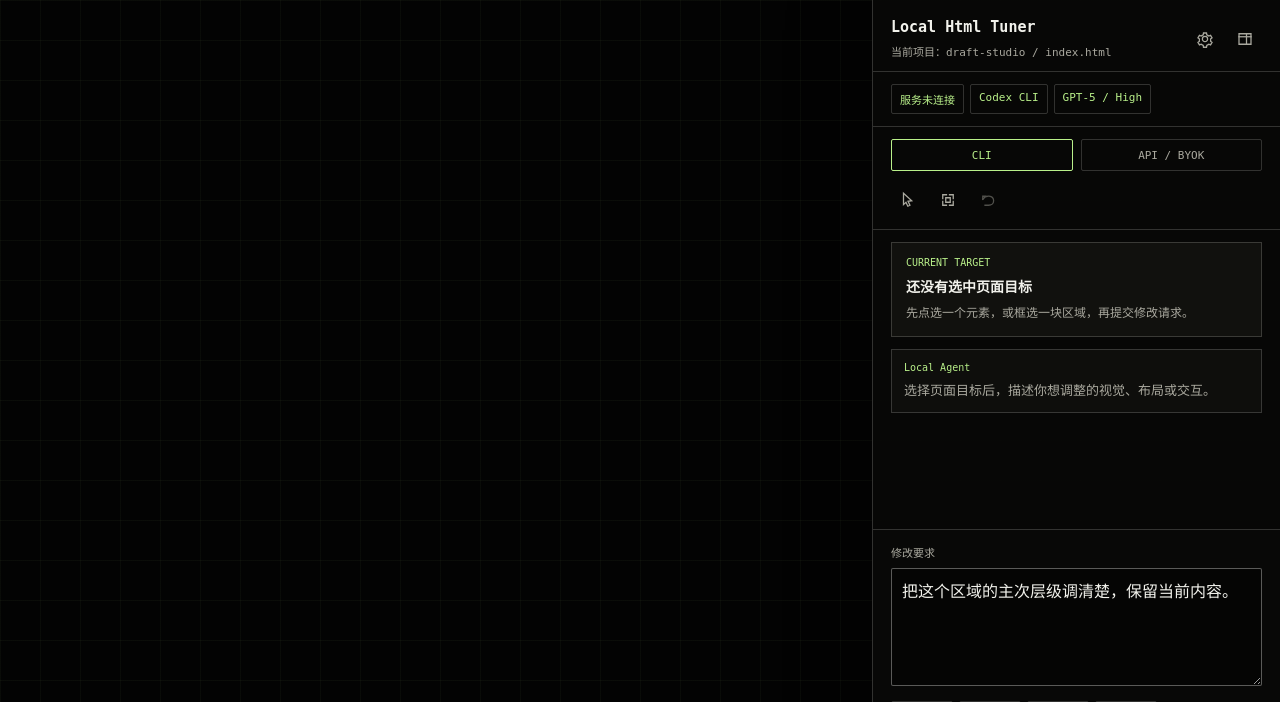
Test: App › shows CLI-only toast when clicking API/BYOK
Click the button "API / BYOK" at (1171, 155), box [1080, 139, 1262, 171]
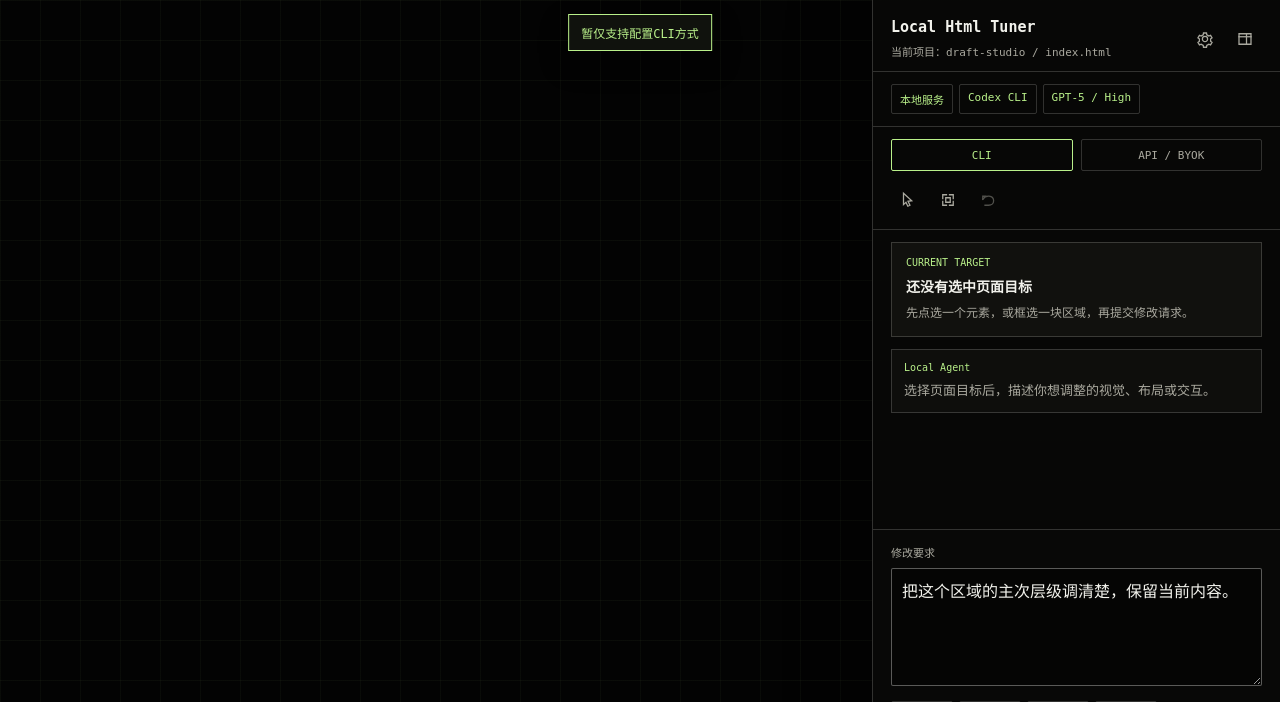
Expected: the message reads "暂仅支持配置CLI方式", [581, 27, 699, 41]
